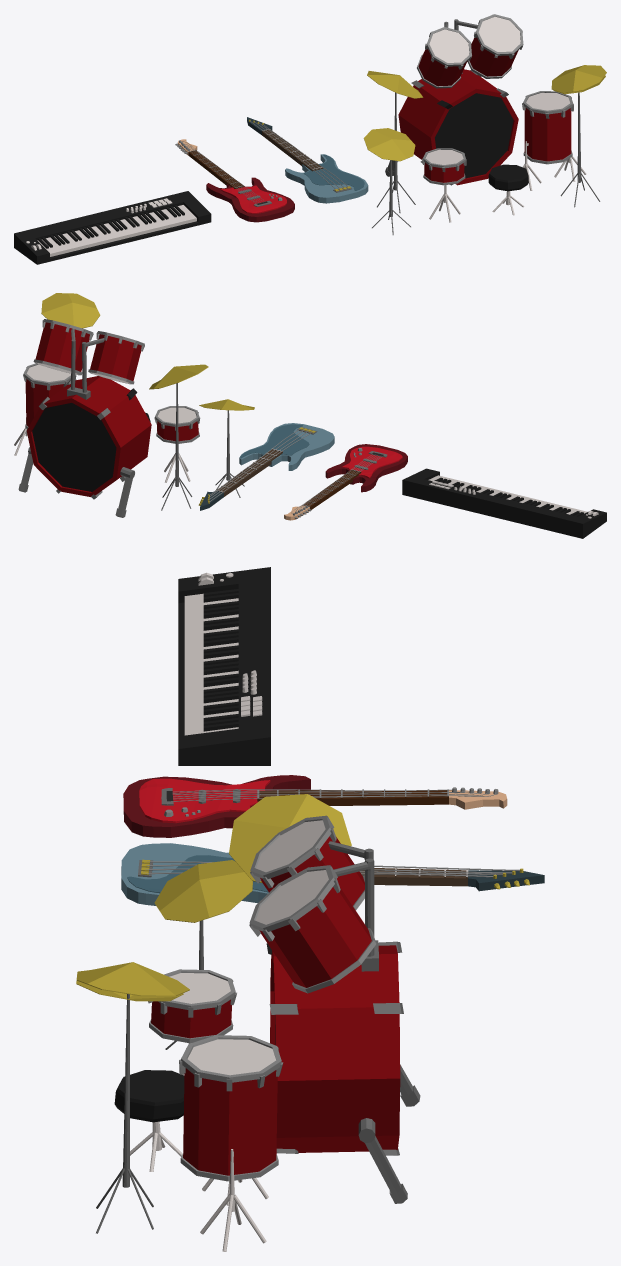
Rendered from Instrumentos.fbx.
3 renders of one model, top to bottom at view 1: azimuth 30°, elevation 25°; view 2: azimuth 150°, elevation 25°; view 3: azimuth 270°, elevation 25°, orthographic. The views are drawn at different scales.
Visible parts, largest first — view 1: Bateria, Piano, Bajo, Guitarra; view 2: Bateria, Piano, Bajo, Guitarra; view 3: Bateria, Piano, Guitarra, Bajo.
Boxes of the visible parts, box(x1,y1,x2,y2) form: Bateria: box(363, 14, 606, 235); Piano: box(14, 191, 211, 264); Bajo: box(247, 117, 368, 203); Guitarra: box(175, 139, 294, 222); Bateria: box(14, 293, 254, 517); Piano: box(402, 468, 606, 538); Bajo: box(198, 423, 334, 510); Guitarra: box(284, 444, 407, 520); Bateria: box(76, 794, 420, 1251); Piano: box(178, 567, 270, 765); Guitarra: box(123, 775, 507, 837); Bajo: box(121, 843, 544, 905).
Size of the model in its own units: 3135 by 850 by 1134.
